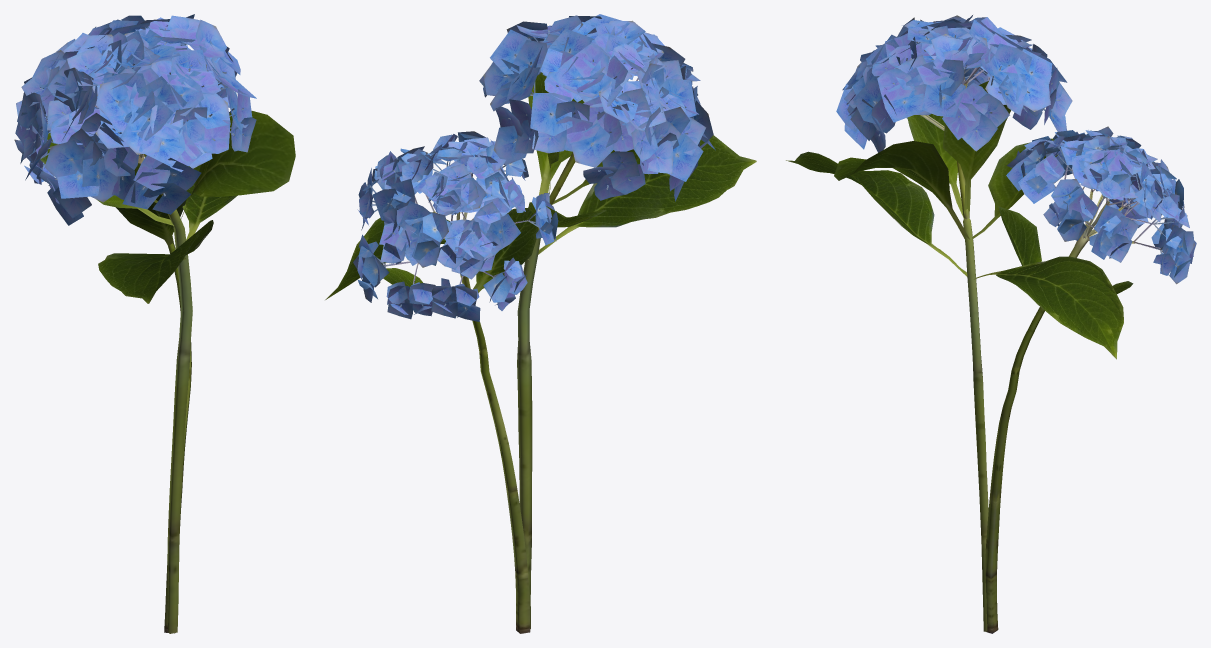
Rendered from Hydrangea_bush_short_deepblue.glb.
3 renders of one model, left to right at view 1: azimuth 30°, elevation 25°; view 2: azimuth 150°, elevation 25°; view 3: azimuth 270°, elevation 25°, orthographic. The views are drawn at different scales.
Visible parts, largest first — view 1: BUSHEKK; view 2: BUSHEKK; view 3: BUSHEKK.
Boxes of the visible parts, <box> form: BUSHEKK: <box>14,14,295,633</box>; BUSHEKK: <box>325,14,756,633</box>; BUSHEKK: <box>786,15,1196,633</box>.
Bounding box in the file's own units: 1.48 × 2.94 × 1.87.
1 material, 1 textured.
